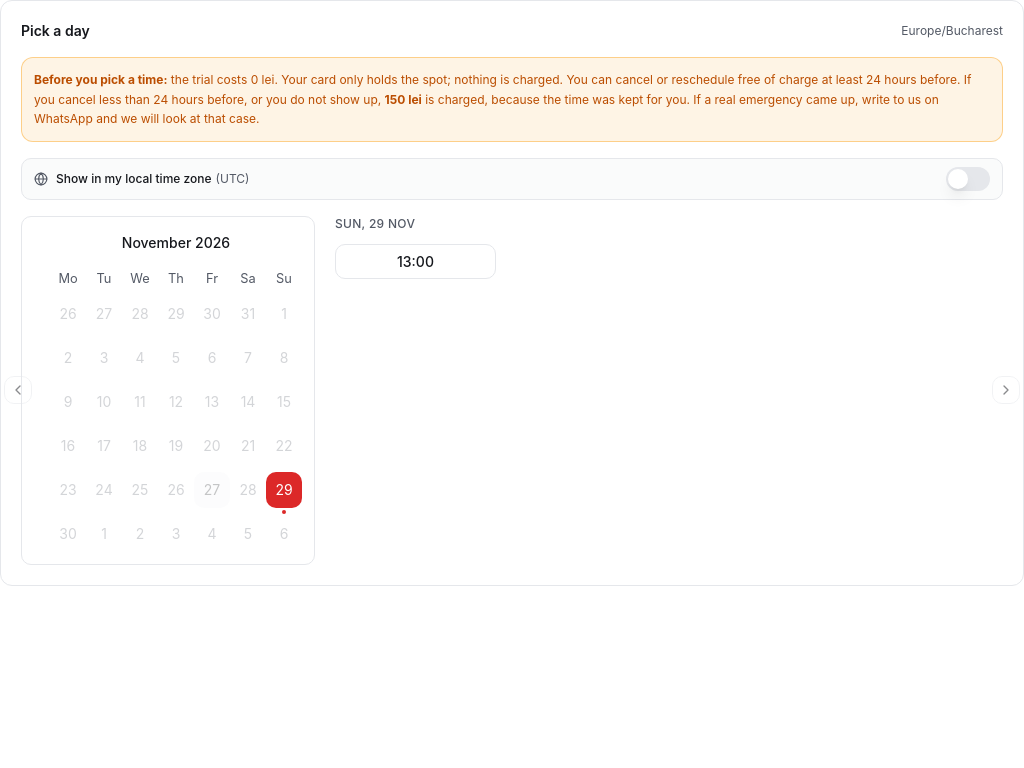
Scenario: free-trial booking through email verification › keeps the visitor on the code screen when Auth rejects the code
Click the button "13:00": (416, 261) [335,244,496,279]
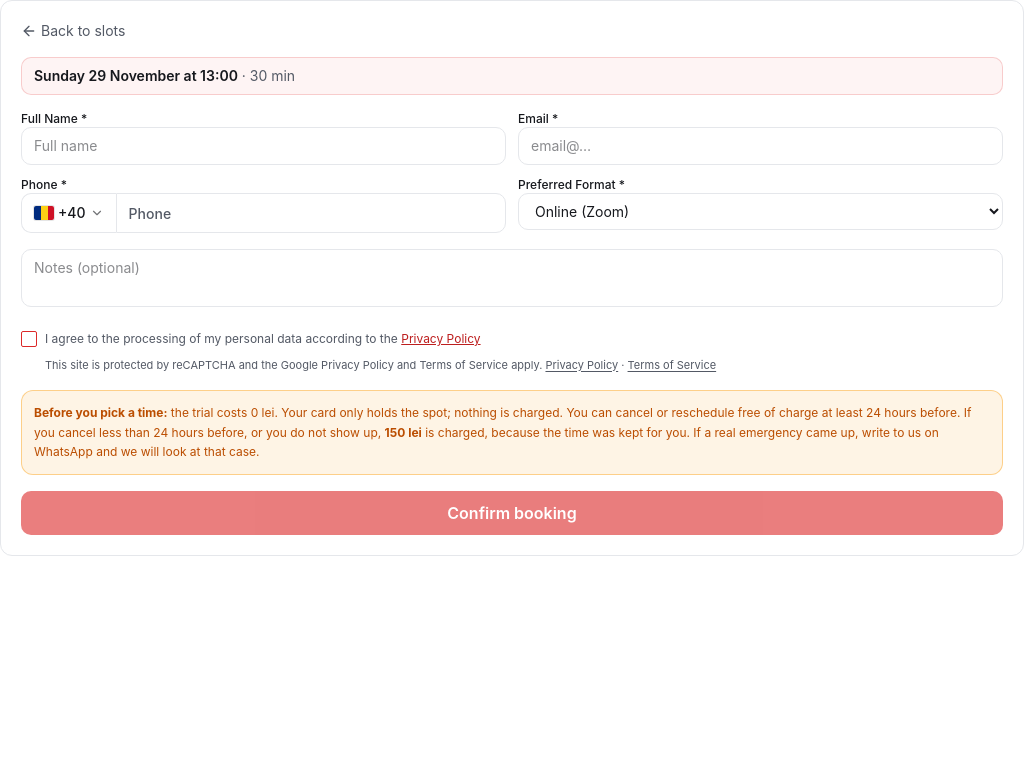
In the field with placeholder "Full Name": (264, 146) [21,127,506,165], type "Test Visitor"
In the field with placeholder "email@…": (760, 146) [518,127,1003,165], type "visitor@example.test"
In the field with placeholder "Phone": (311, 213) [116,193,506,233], type "+40722123456"
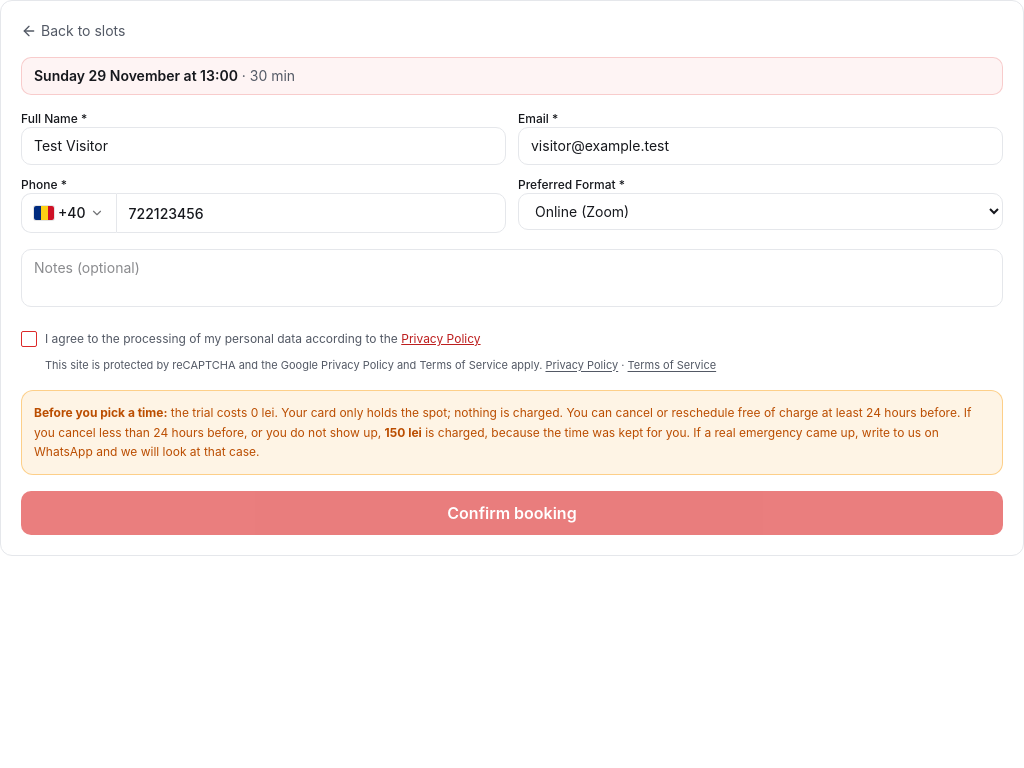
Click the checkbox: (29, 339) [21,331,37,347]
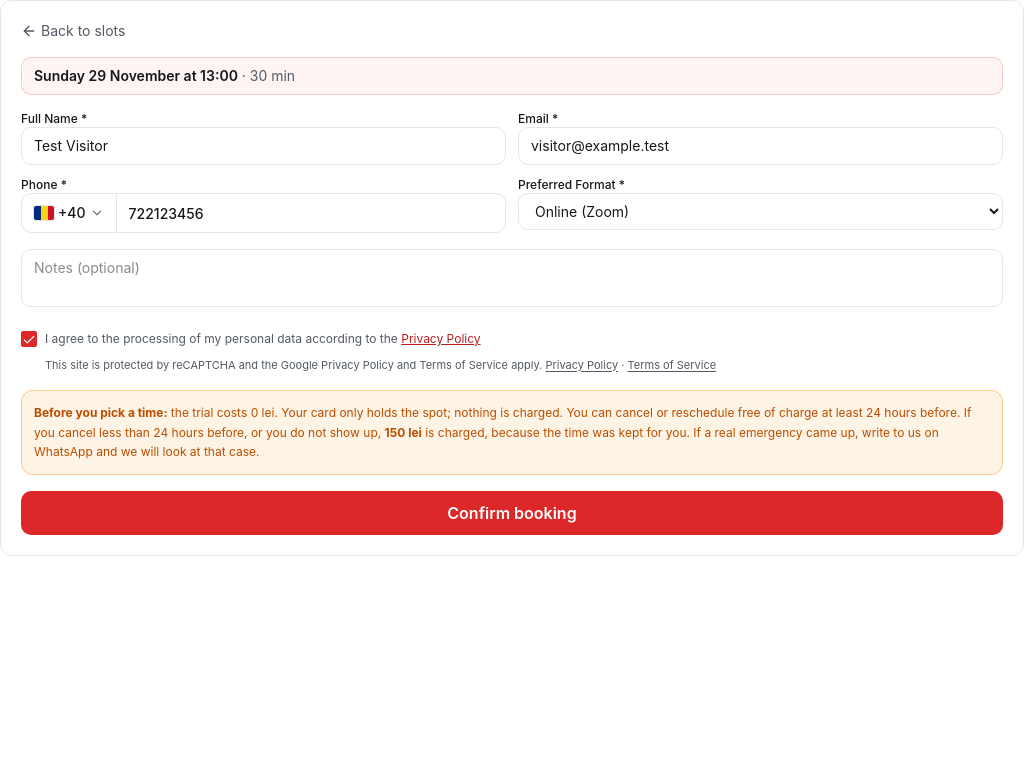
Click the button "Confirm booking": (512, 513) [21,491,1003,535]
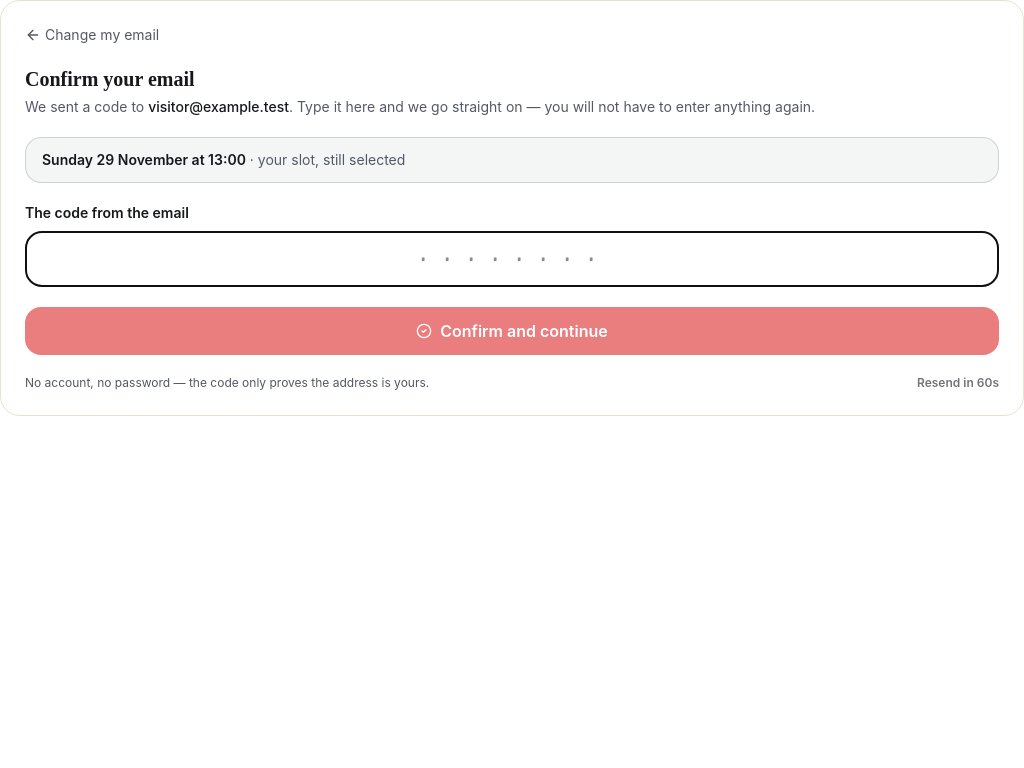
In the field labelled "The code from the email": (512, 259) [25,231,999,287], type "012345"
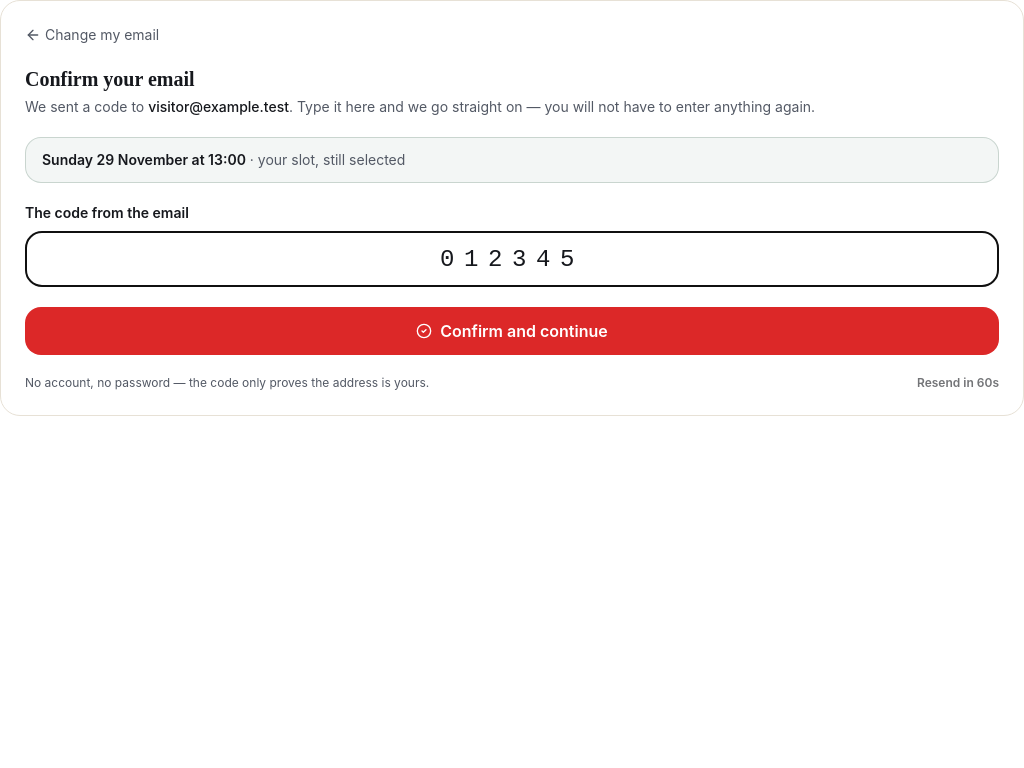
Click the button "Confirm and continue": (512, 331) [25,307,999,355]
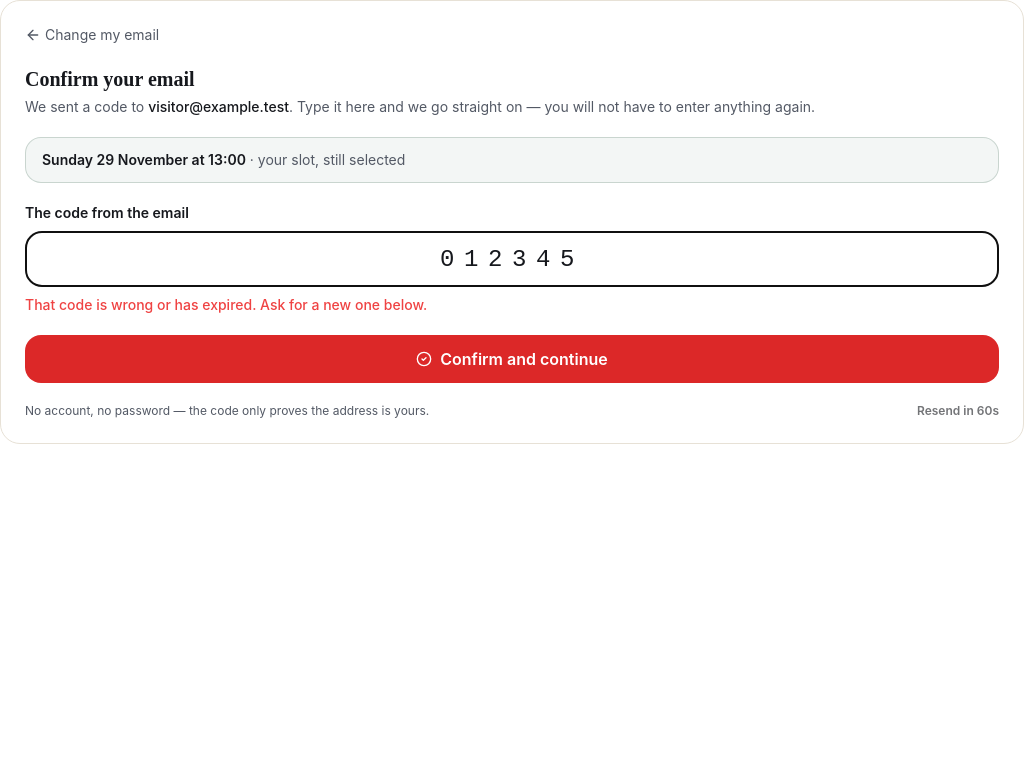
Now the text "· your slot, still selected" is shown, box [246,151,405,168]
Now the message shows "wrong or has expired", box [25,296,427,313]
